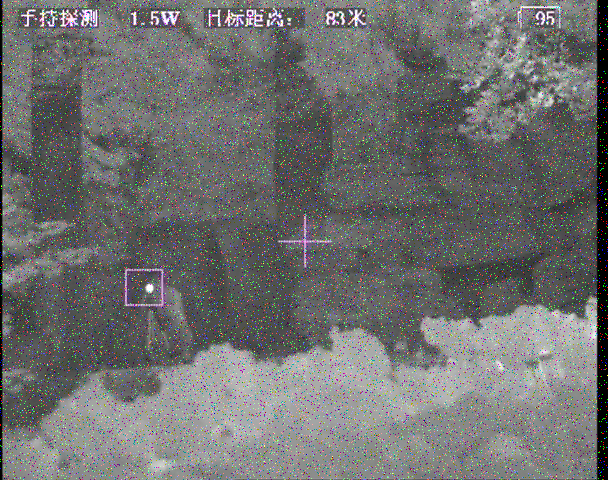my: (144, 281, 156, 294)
